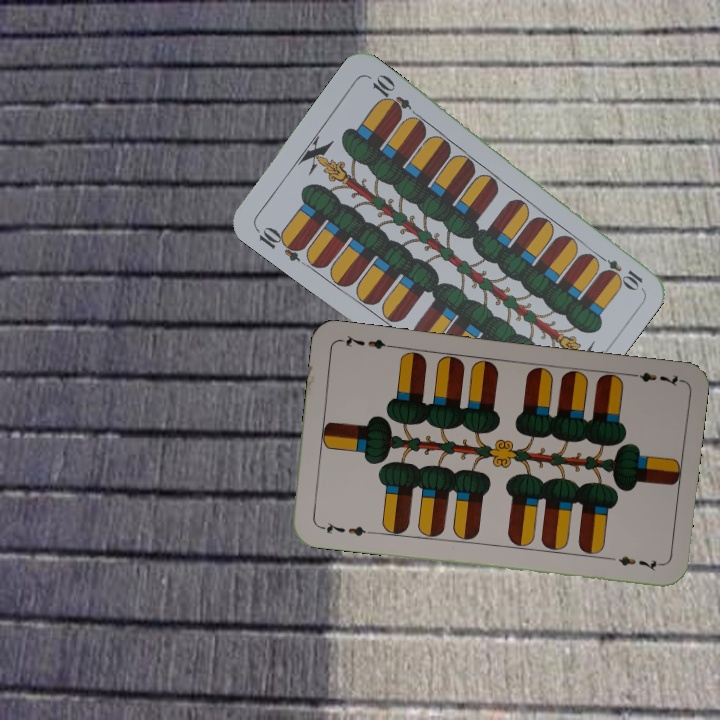E10: (591, 249, 646, 292), (251, 222, 307, 264)
E7: (624, 367, 683, 389), (315, 519, 374, 539)
